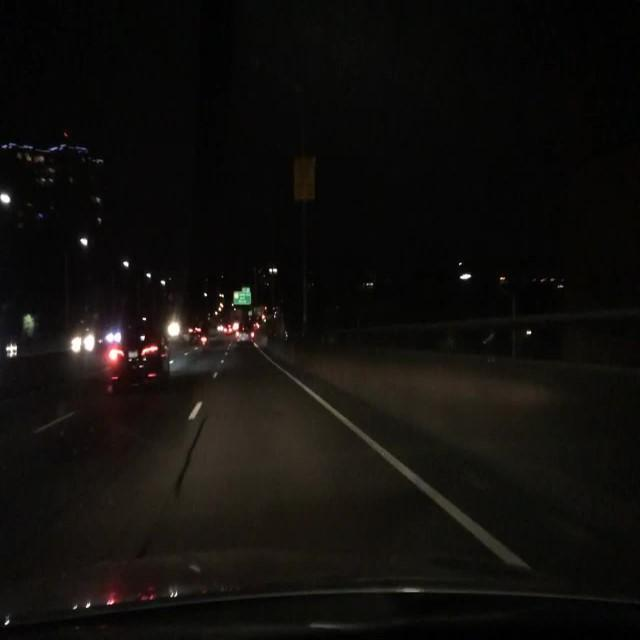normal: (113, 344, 172, 392)
